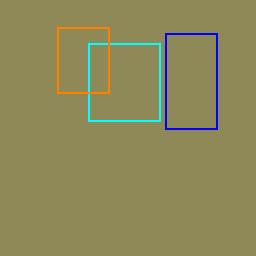Face Mask: (88, 43, 160, 121)
Helmet: (57, 27, 110, 93)
Person: (165, 33, 218, 129)
